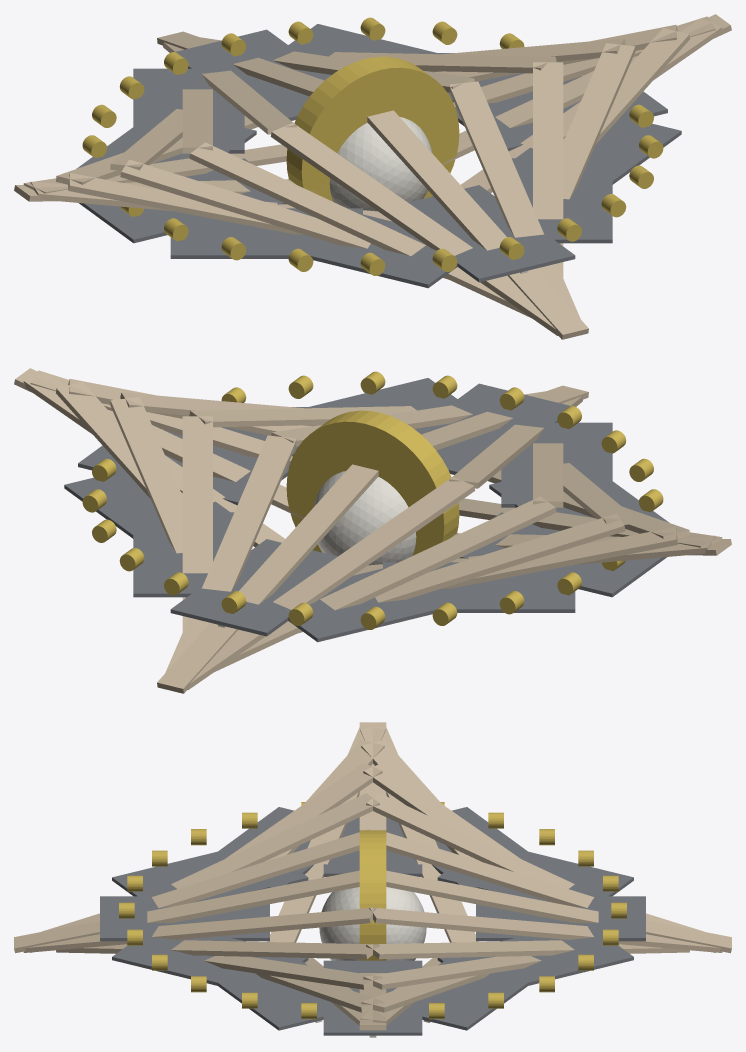
Rendered from stratavox_collapsed.glb.
The picture shows the model from 3 angles, top to bottom: view 1: azimuth 30°, elevation 25°; view 2: azimuth 150°, elevation 25°; view 3: azimuth 270°, elevation 25°; orthographic projection. The views are drawn at different scales.
Parts seen in each view (by area): view 1: geometry_0, geometry_20, geometry_24, geometry_26, geometry_18, geometry_14, geometry_30, geometry_22, geometry_52, geometry_12, geometry_28, geometry_34 (+25 smaller); view 2: geometry_0, geometry_56, geometry_54, geometry_50, geometry_60, geometry_62, geometry_46, geometry_48, geometry_58, geometry_28, geometry_66, geometry_64 (+25 smaller); view 3: geometry_20, geometry_56, geometry_18, geometry_60, geometry_24, geometry_54, geometry_26, geometry_50, geometry_10, geometry_64, geometry_14, geometry_62 (+25 smaller).
Part boxes in pixels (<box>): geometry_0: <box>286,56,459,201</box>; geometry_20: <box>367,110,588,339</box>; geometry_24: <box>270,123,558,335</box>; geometry_26: <box>189,142,530,317</box>; geometry_18: <box>449,81,580,318</box>; geometry_14: <box>533,62,563,277</box>; geometry_30: <box>120,159,447,279</box>; geometry_22: <box>408,185,575,282</box>; geometry_52: <box>133,68,244,153</box>; geometry_12: <box>563,43,635,199</box>; geometry_28: <box>262,214,479,288</box>; geometry_34: <box>170,208,362,258</box>; geometry_0: <box>286,410,459,555</box>; geometry_56: <box>157,464,378,693</box>; geometry_54: <box>187,477,475,689</box>; geometry_50: <box>215,496,556,671</box>; geometry_60: <box>165,435,296,672</box>; geometry_62: <box>182,416,212,631</box>; geometry_46: <box>383,562,575,612</box>; geometry_48: <box>298,513,625,633</box>; geometry_58: <box>170,539,337,636</box>; geometry_28: <box>501,422,612,507</box>; geometry_66: <box>110,397,182,553</box>; geometry_64: <box>133,512,244,597</box>; geometry_20: <box>14,870,359,953</box>; geometry_56: <box>386,870,731,953</box>; geometry_18: <box>23,907,376,952</box>; geometry_60: <box>369,907,722,952</box>; geometry_24: <box>31,829,369,952</box>; geometry_54: <box>376,829,714,952</box>; geometry_26: <box>171,793,379,888</box>; geometry_50: <box>366,793,574,888</box>; geometry_10: <box>194,956,323,1030</box>; geometry_64: <box>437,938,633,992</box>; geometry_14: <box>56,940,379,959</box>; geometry_62: <box>366,940,689,959</box>.
Bounding box in the file's own units: 1.6 × 0.36 × 1.6.
